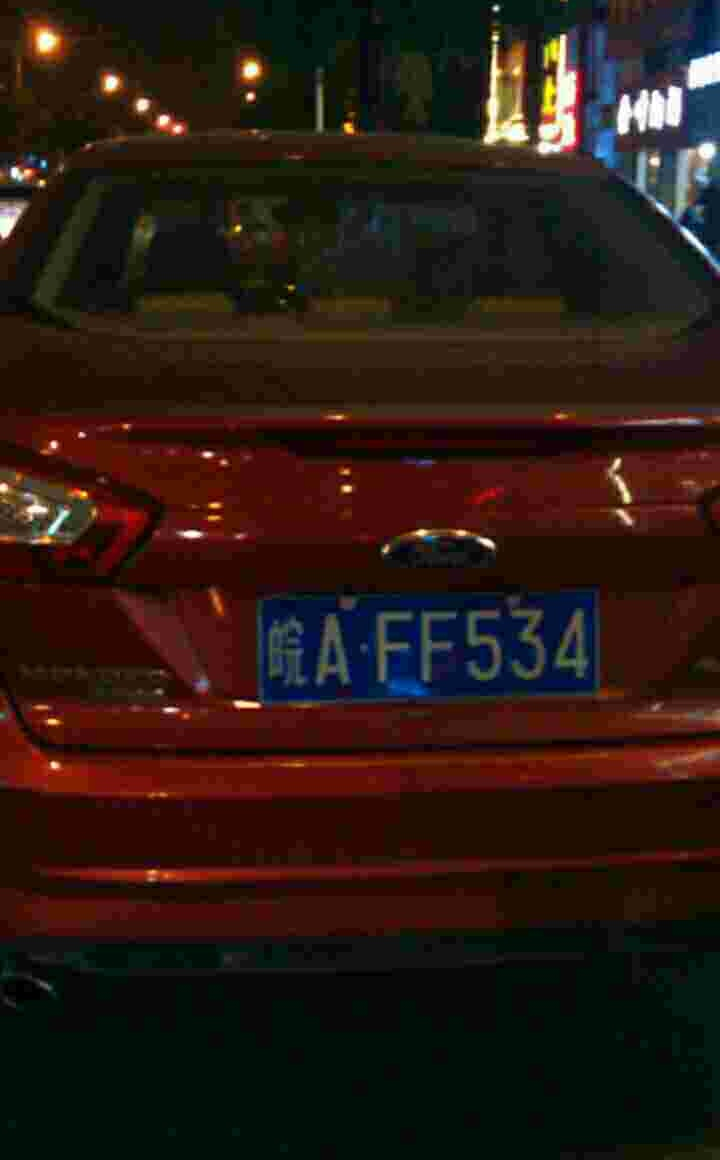license_plate: (260, 582, 607, 708)
